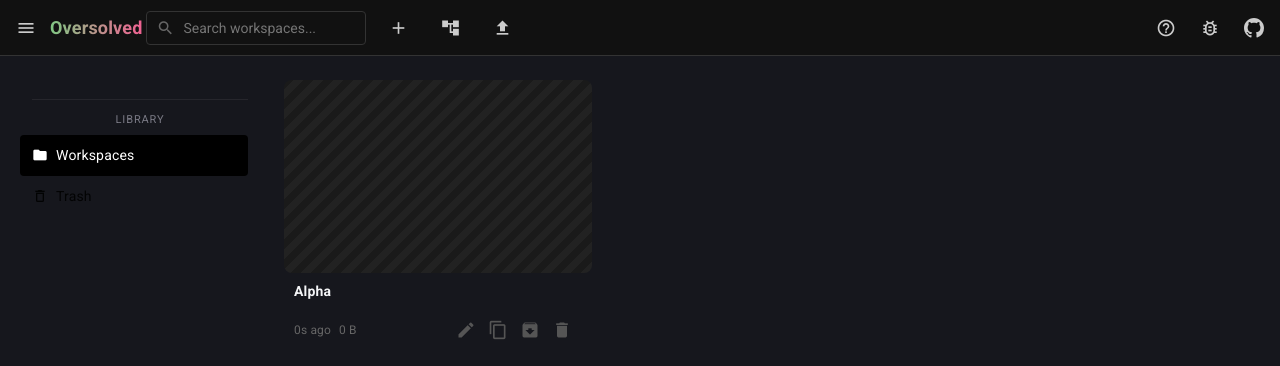
Workspaces slow verbs › disables a duplicate while it runs and re-enables it after
The width and height of the screenshot is (1280, 366).
Expected: the text "Alpha" is shown, [294,280,331,302]
Step 1. Click the button titled "Duplicate" → (498, 330), box [478,310,518,350]
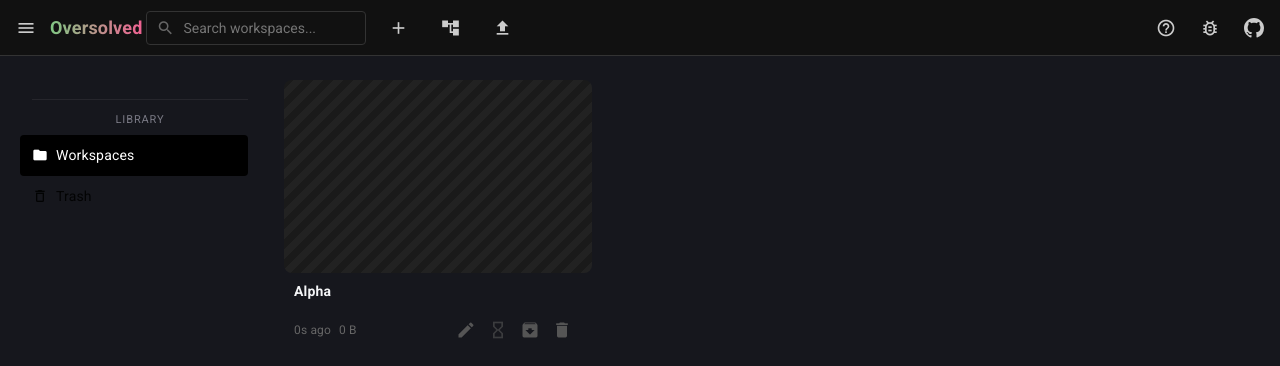
Expected: the button titled "Duplicate" is disabled
# A second click while the first is in flight must not start a second copy.
Step 2. Click the button titled "Duplicate" → (498, 330), box [478,310,518,350]
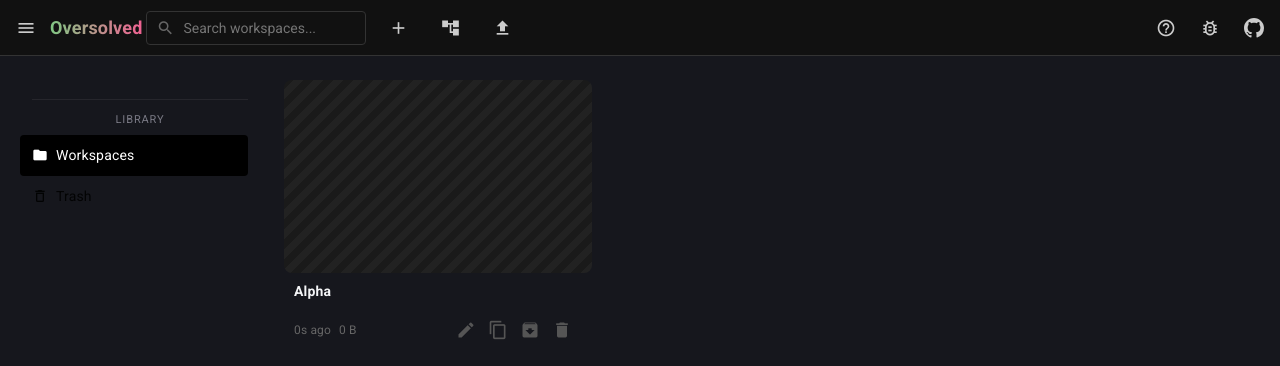
Expected: the button titled "Duplicate" is enabled, [478,310,518,350]
